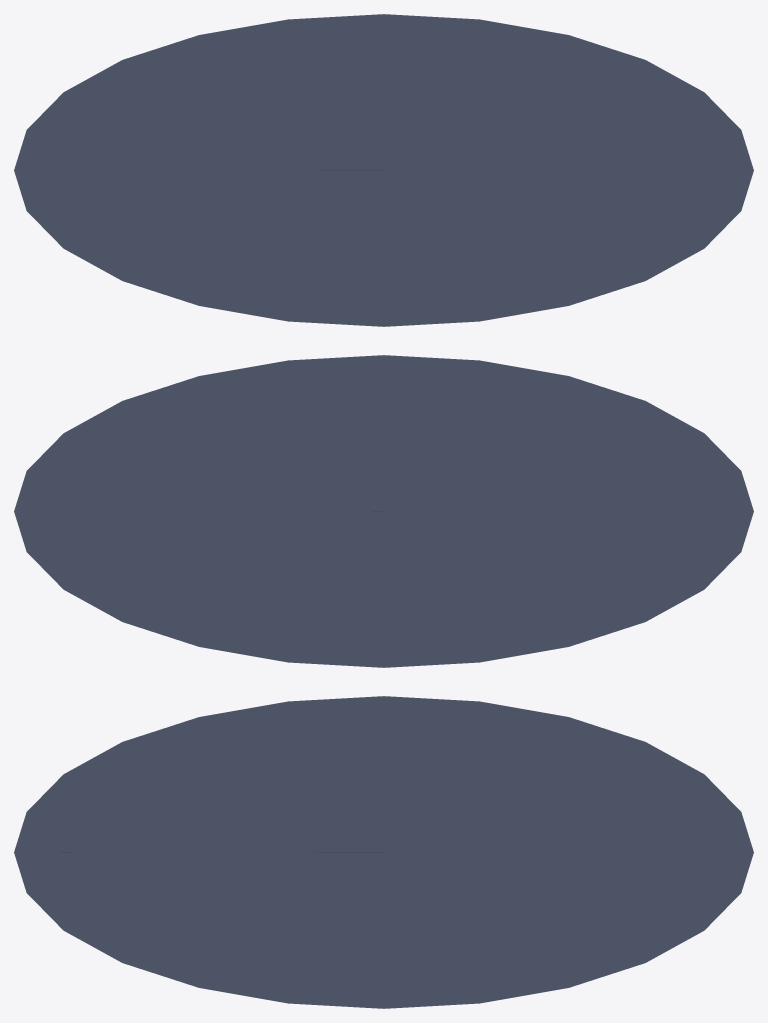
Rendered from watr.fbx.
3 renders of one model, top to bottom at view 1: azimuth 30°, elevation 25°; view 2: azimuth 150°, elevation 25°; view 3: azimuth 270°, elevation 25°, orthographic.
Visible parts, largest first — view 1: Water0; view 2: Water0; view 3: Water0.
Part boxes in pixels (box(x1,y1,x2,y2)): Water0: box(14, 14, 753, 326); Water0: box(14, 355, 753, 667); Water0: box(14, 696, 753, 1008).
Bounding box in the file's own units: 87.54 × 1 × 87.54.
